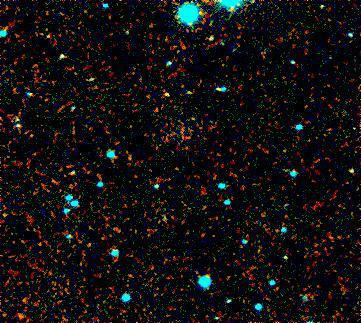star: (150, 79, 180, 109)
